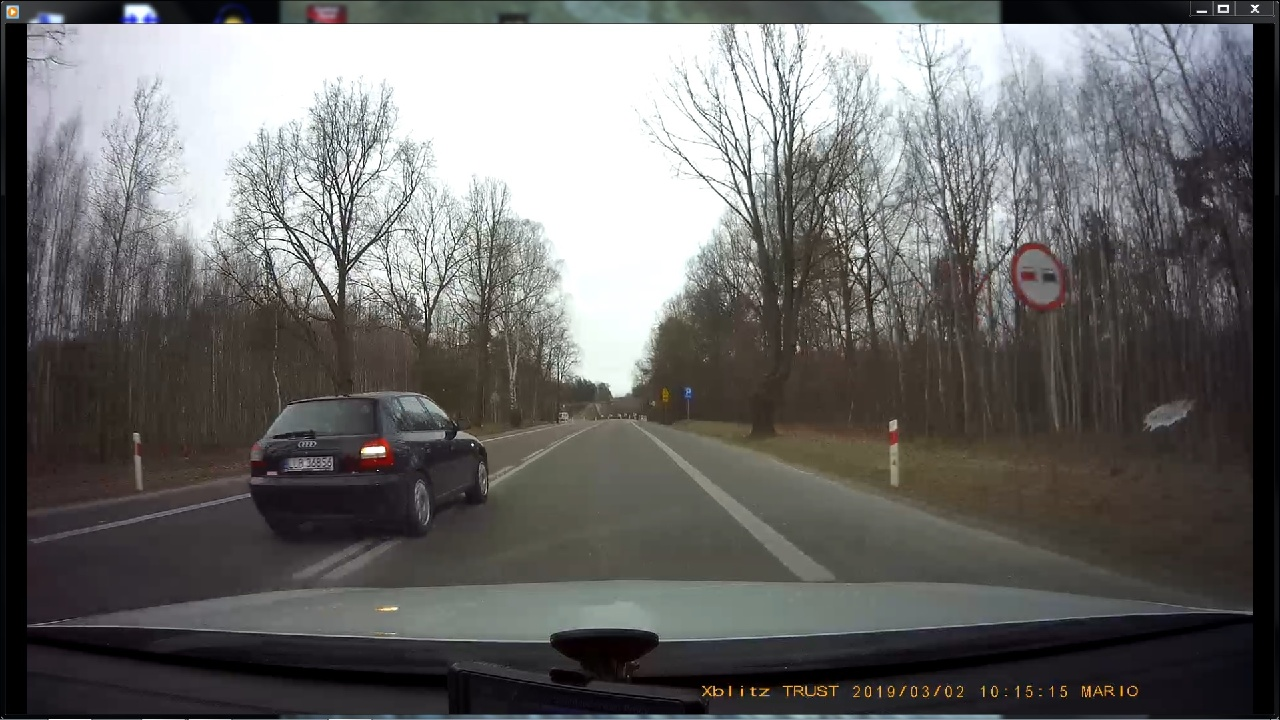B25: (1010, 242, 1066, 311)
